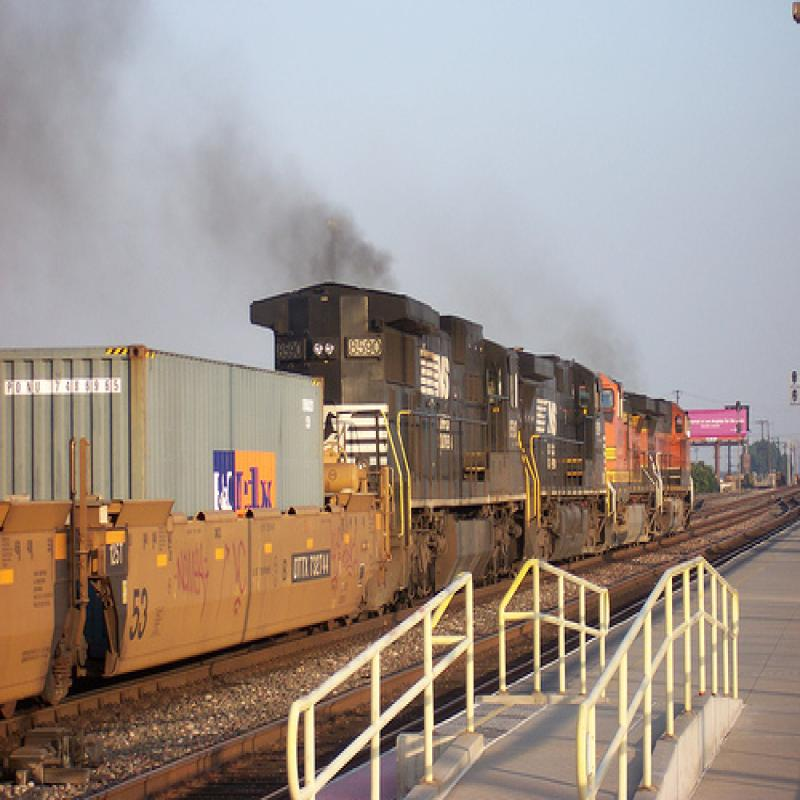train: (1, 280, 695, 707)
